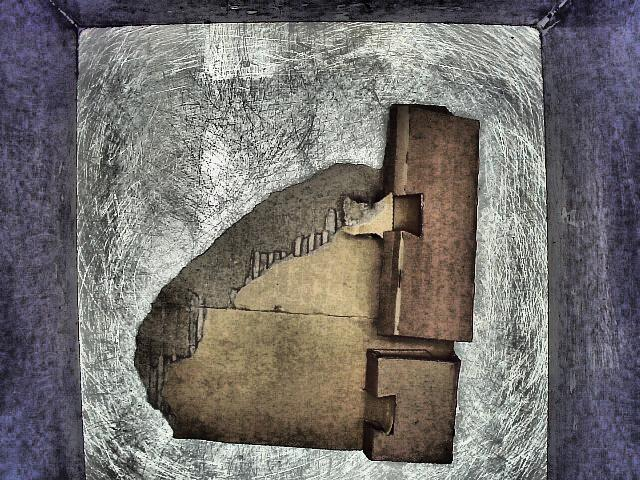Paper: (113, 99, 529, 479)
